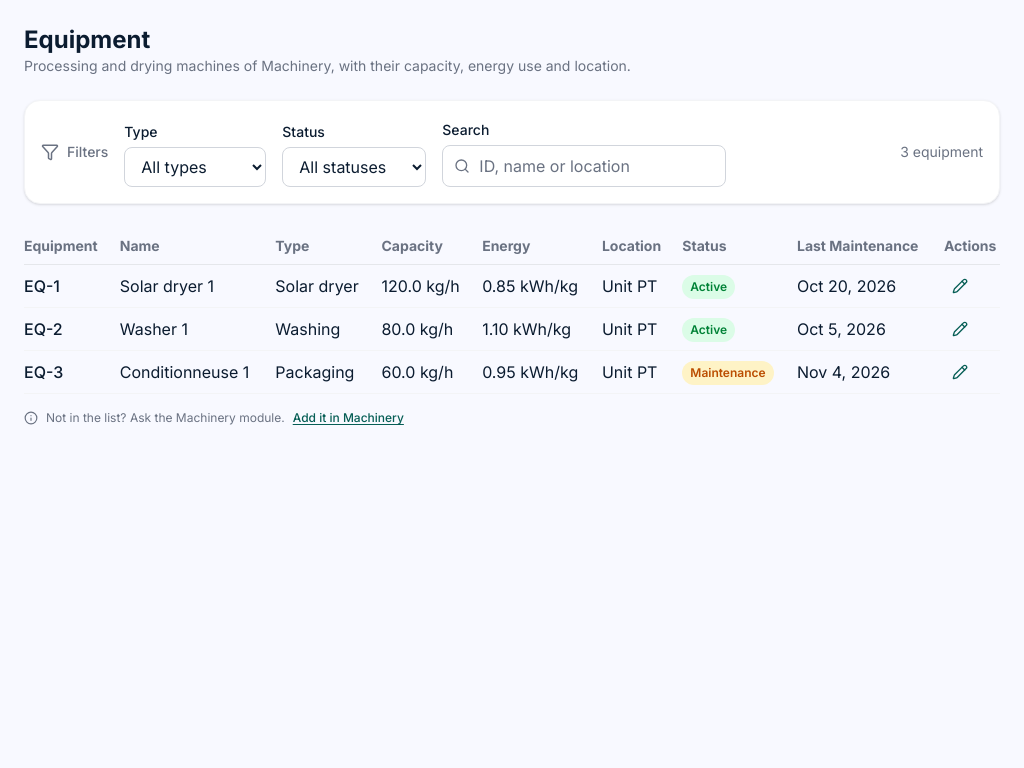
Test case: EquipmentList › rejects a non-positive capacity
Expected: the text "EQ-1" is shown, [24,265,120,308]
Click the button named "Edit specs" in the row of "EQ-1".
click(960, 286)  # box [944,270,976,302]
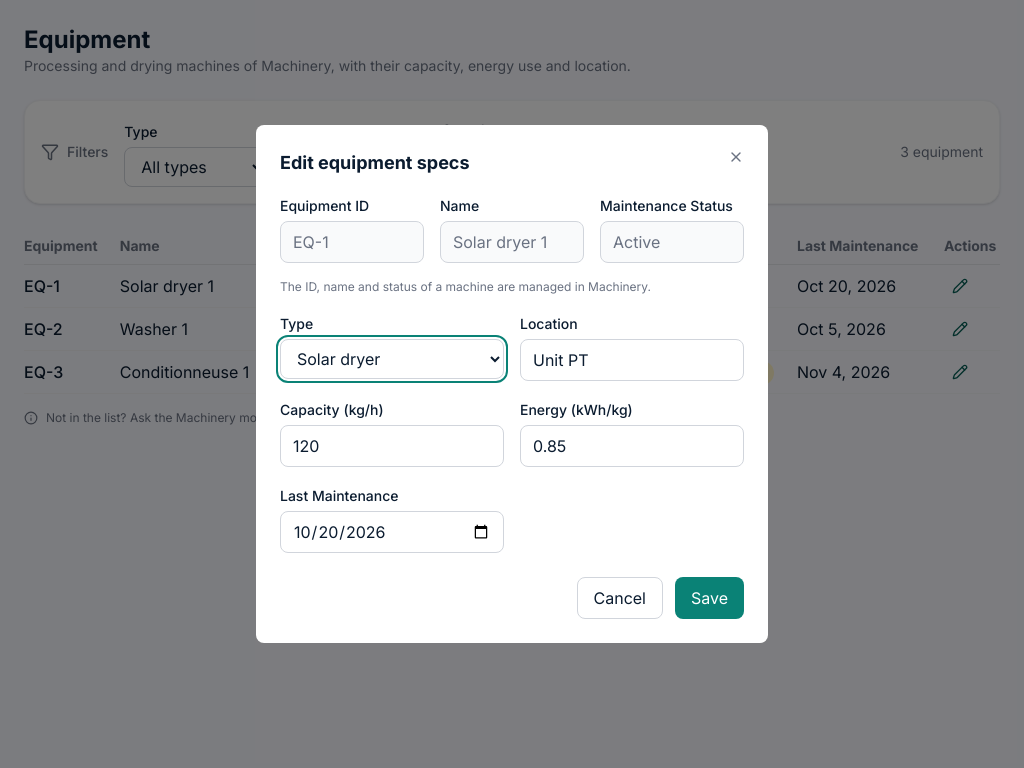
Replace the text in the number field labelled "Capacity (kg/h)" with "0" at (392, 446), box [280,425,504,467]
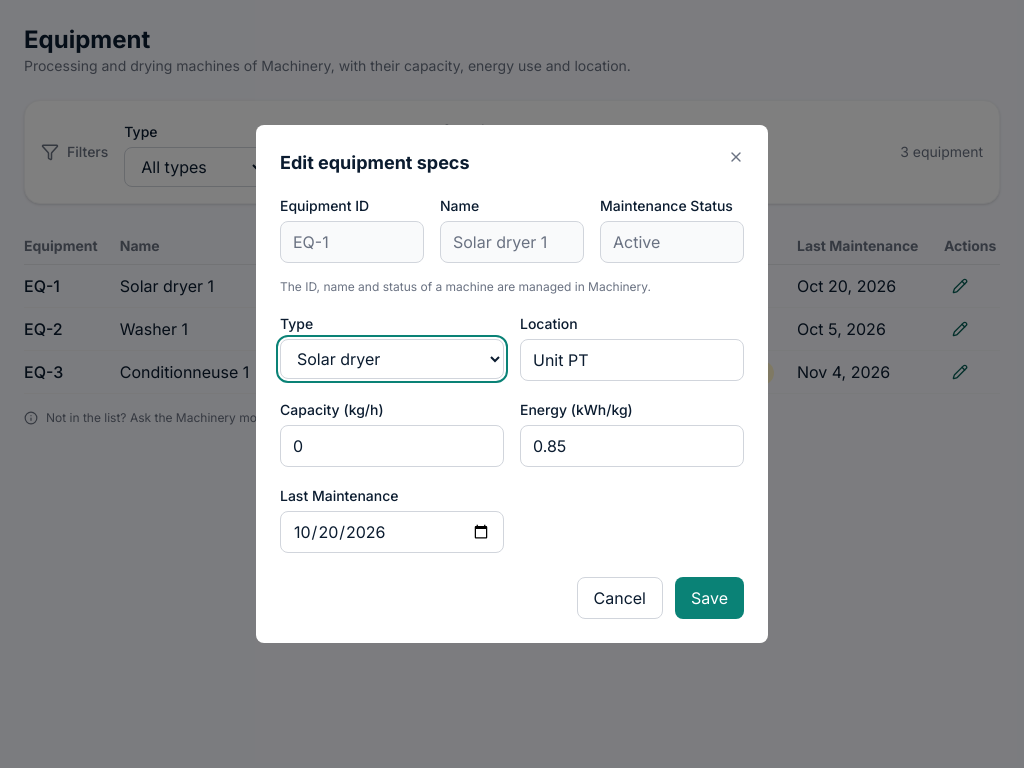
Submit the form, box [280,193,744,619]
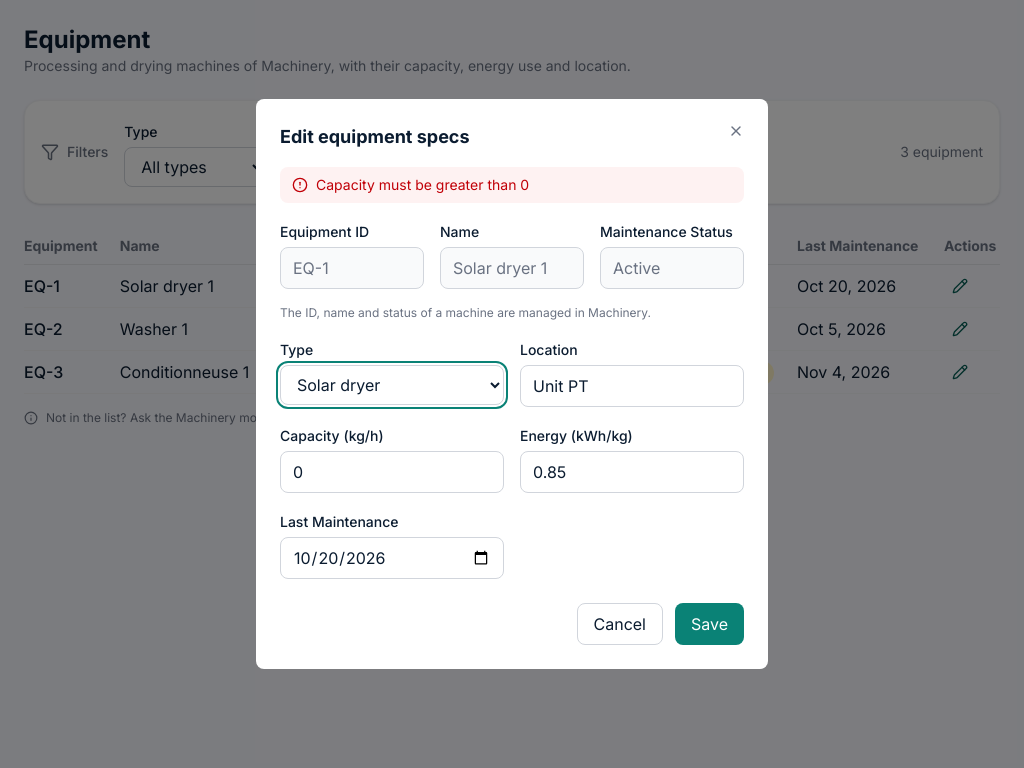
Now the text "Capacity must be greater than 0" is shown, box [316,175,529,195]
